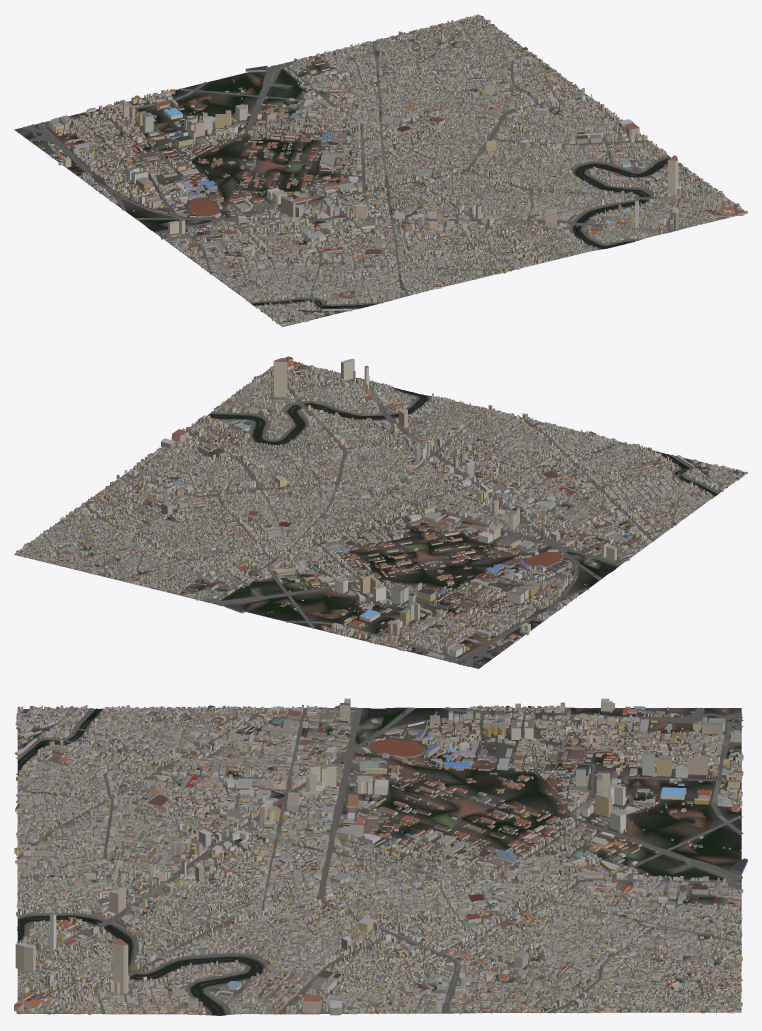
3 views of the same model, one above another, from view 1: azimuth 30°, elevation 25°; view 2: azimuth 150°, elevation 25°; view 3: azimuth 270°, elevation 25° (orthographic). The views are drawn at different scales.
Parts seen in each view (by area): view 1: buildings, ground, roads, water; view 2: buildings, ground, roads, water; view 3: buildings, ground, roads, water.
Boxes of the visible parts, x1,y1,x2,y2 form: buildings: [24, 14, 747, 327]; ground: [14, 16, 747, 326]; roads: [22, 19, 737, 325]; water: [147, 78, 669, 308]; buildings: [15, 356, 747, 663]; ground: [14, 364, 745, 668]; roads: [24, 366, 744, 666]; water: [206, 388, 717, 617]; buildings: [14, 698, 747, 1015]; ground: [17, 707, 741, 1015]; roads: [16, 707, 743, 1015]; water: [17, 708, 739, 1015].
Bounding box in the file's own units: 2827 × 215 × 2840.
